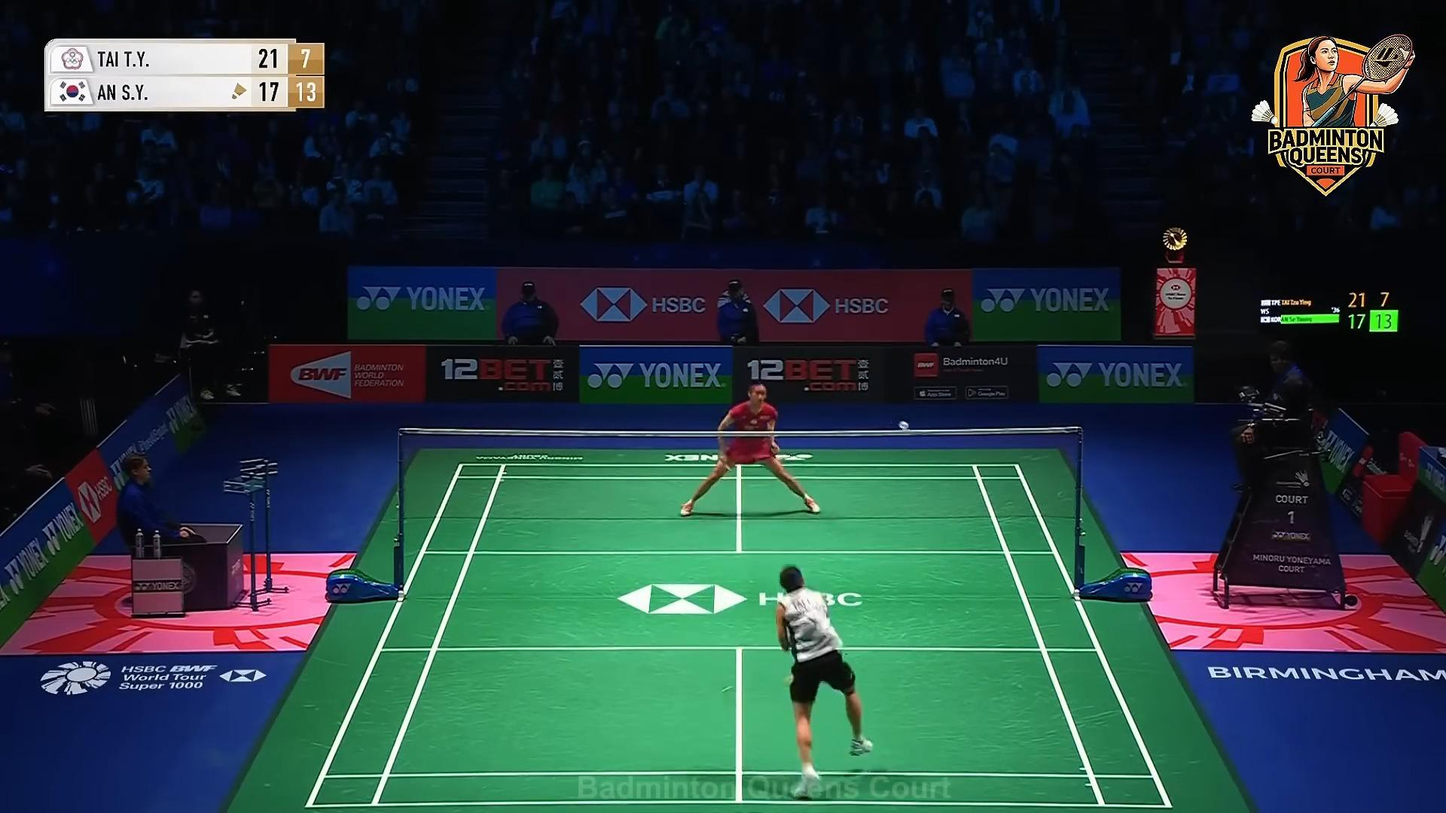player: (775, 567, 874, 802), (679, 382, 819, 518)
